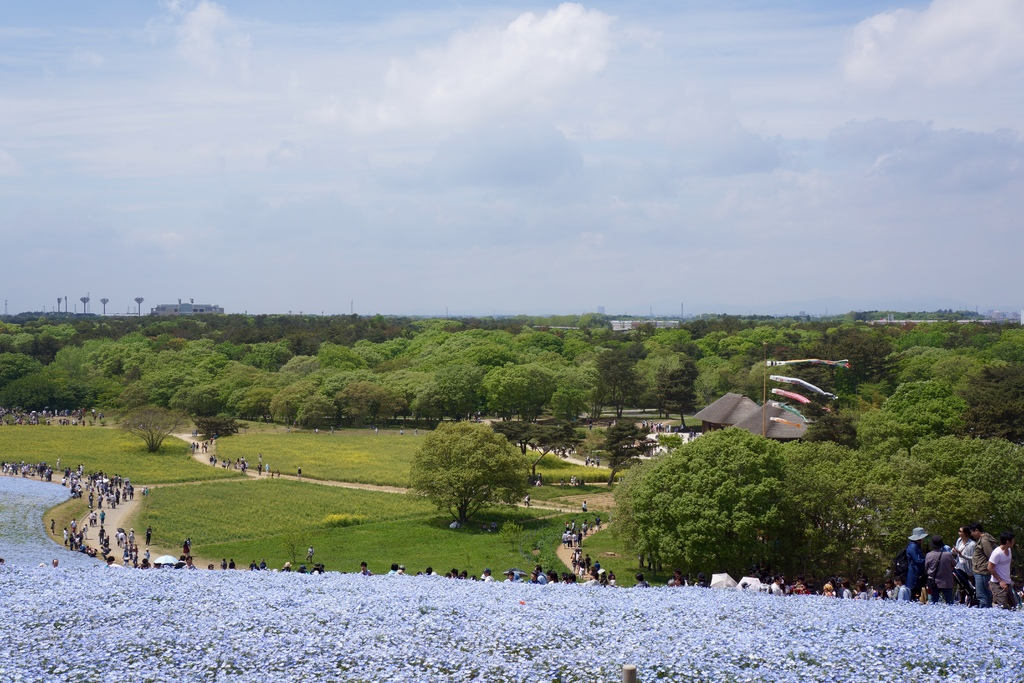Tree: (0, 307, 1023, 461), (613, 425, 1015, 597), (416, 406, 529, 543)
